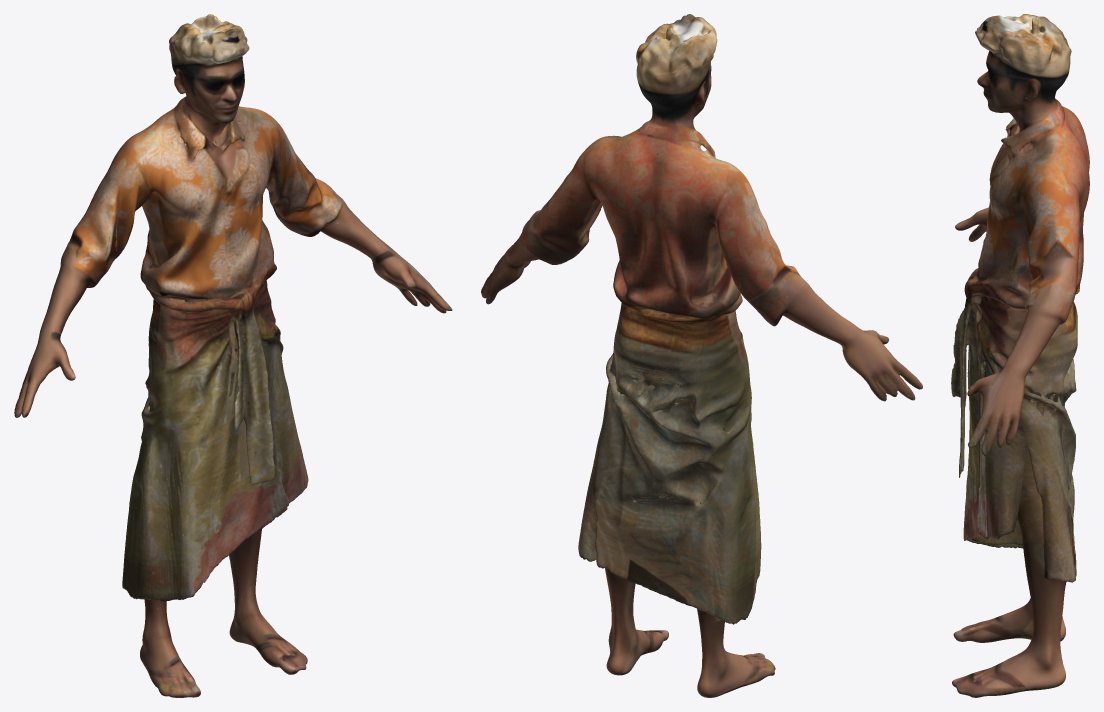
File: indo1.fbx
3 views of the same model, side by side, from view 1: azimuth 30°, elevation 25°; view 2: azimuth 150°, elevation 25°; view 3: azimuth 270°, elevation 25° (orthographic).
Parts seen in each view (by area): view 1: Mesh1.0; view 2: Mesh1.0; view 3: Mesh1.0.
Boxes of the visible parts, left/top/right/bottom form: Mesh1.0: left=14, top=14, right=452, bottom=697; Mesh1.0: left=481, top=14, right=922, bottom=697; Mesh1.0: left=951, top=14, right=1089, bottom=697.
Size of the model in its own units: 140 by 200 by 38.73.
1 material, 1 textured.
